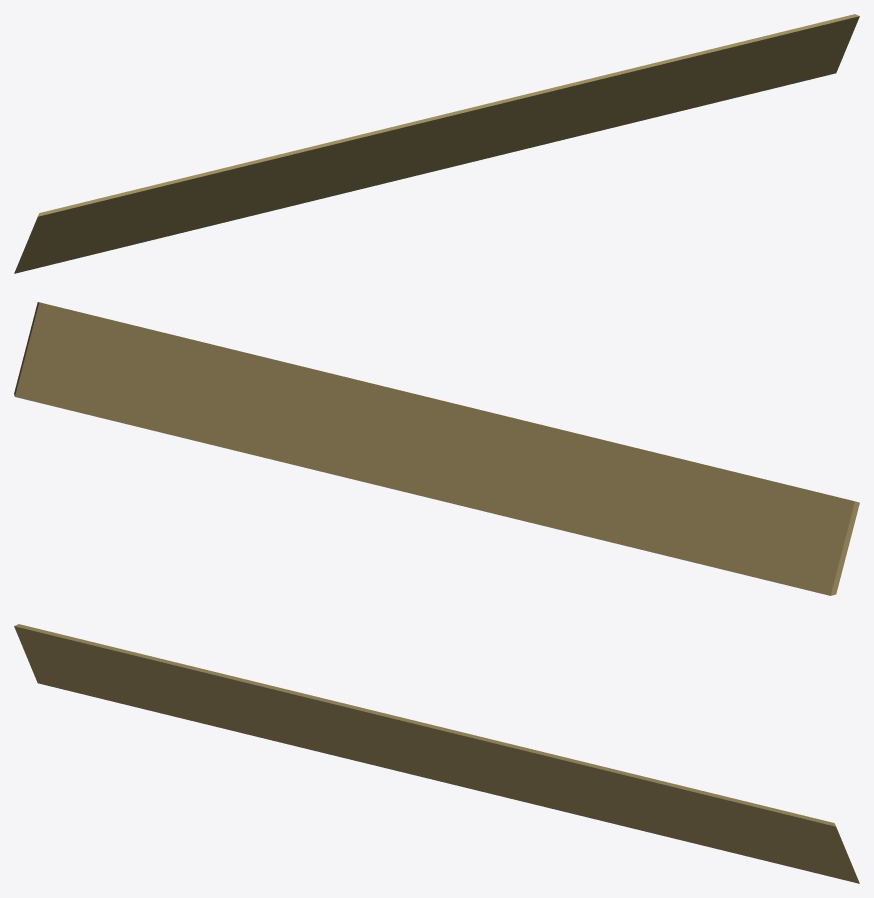
The model's file is original-20-collision.obj.
3 renders of one model, top to bottom at view 1: azimuth 30°, elevation 25°; view 2: azimuth 150°, elevation 25°; view 3: azimuth 330°, elevation 25°, orthographic.
Parts seen in each view (by area): view 1: group_4/ID108#ID108; view 2: group_4/ID108#ID108; view 3: group_4/ID108#ID108.
Part boxes in pixels (<box>): group_4/ID108#ID108: <box>14,14,859,273</box>; group_4/ID108#ID108: <box>14,302,859,595</box>; group_4/ID108#ID108: <box>14,624,859,883</box>.
Bounding box in the file's own units: 0.8774 × 0.0783 × 0.0482.
